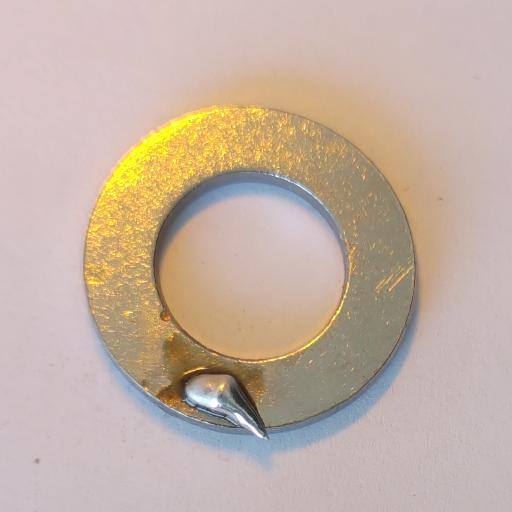excess_material: (181, 375, 271, 441)
